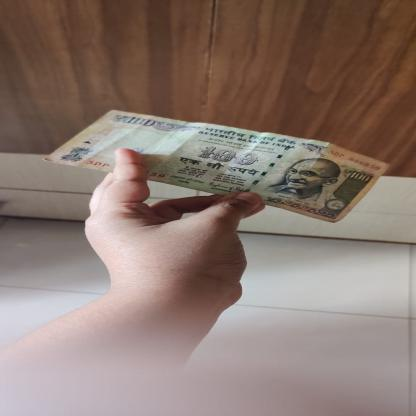Old100Front: (41, 109, 394, 224)
